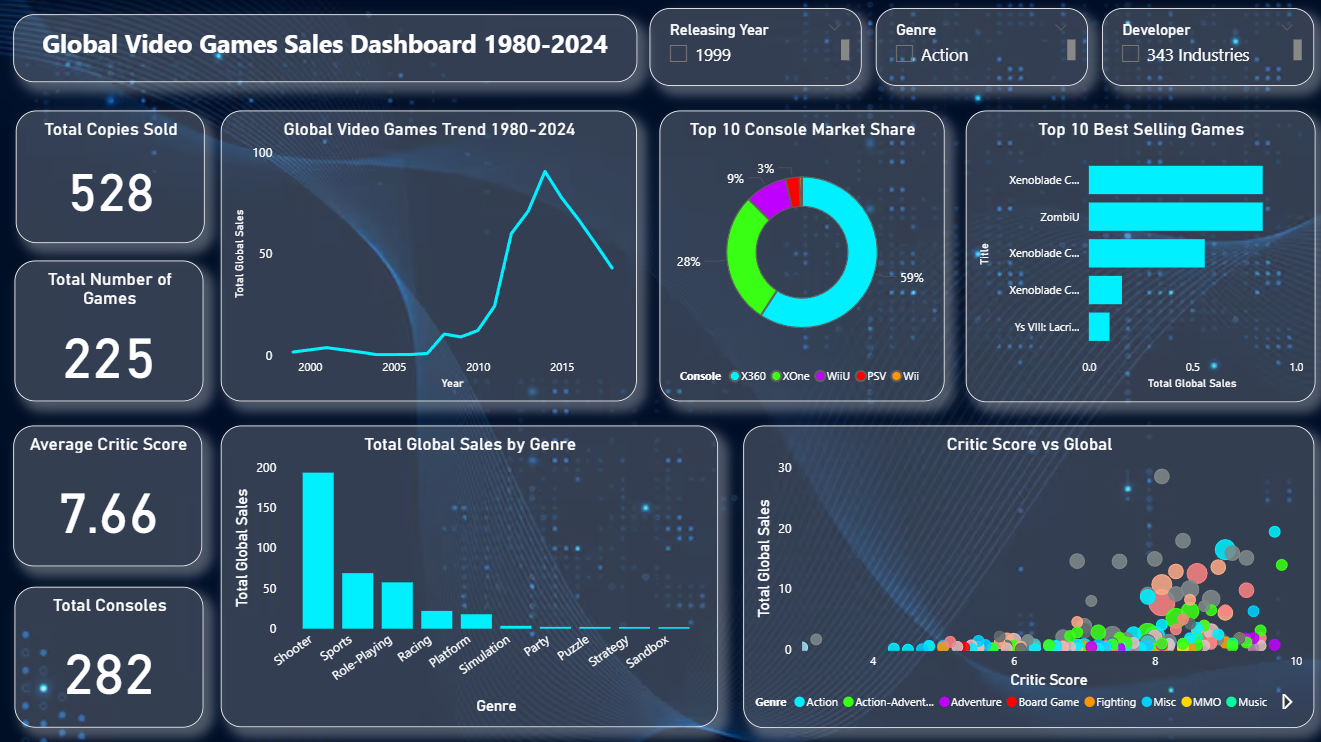

Layout of this report page (visuals, bound fields, positions):
{"tool":"powerbi","page":{"name":"Page 1","canvas":[1280,720],"ordinal":0},"visuals":[{"type":"lineChart","title":"Global Video Games Trend 1980-2024","fields":{"Category":["Video Games Sales (1980-2024) - Raw.release_date.Variation.Date Hierarchy.Year"],"Y":["Video Games Sales (1980-2024) - Raw.Total Global Sales"]},"box":[216,108.6,401.7,281.1],"z":0},{"type":"columnChart","title":"Total Global Sales by Genre","fields":{"Category":["Video Games Sales (1980-2024) - Raw.genre"],"Y":["Video Games Sales (1980-2024) - Raw.Total Global Sales"]},"box":[215.4,413,480.3,290.9],"z":1000},{"type":"donutChart","title":"Top 10 Console Market Share","fields":{"Category":["Video Games Sales (1980-2024) - Raw.console"],"Y":["Video Games Sales (1980-2024) - Raw.Total Global Sales"]},"box":[639.4,108.6,275.1,281.1],"z":2000},{"type":"scatterChart","title":"Critic Score vs Global","fields":{"Y":["Video Games Sales (1980-2024) - Raw.Total Global Sales"],"X":["Video Games Sales (1980-2024) - Raw.critic_score"],"Series":["Video Games Sales (1980-2024) - Raw.genre"],"Size":["Video Games Sales (1980-2024) - Raw.Number of Games"]},"box":[720.2,412.6,551.3,292],"z":3000},{"type":"card","title":"Total Copies Sold","fields":{"Values":["Video Games Sales (1980-2024) - Raw.Total Global Sales"]},"box":[17.8,108.4,182.5,127.6],"z":4000},{"type":"card","title":"Total Number of Games","fields":{"Values":["Video Games Sales (1980-2024) - Raw.Number of Games"]},"box":[16.5,253.9,182.5,135.8],"z":5000},{"type":"card","title":"Average Critic Score","fields":{"Values":["Avg(Video Games Sales (1980-2024) - Raw.critic_score)"]},"box":[15.1,413,182.5,135.8],"z":6000},{"type":"slicer","fields":{"Values":["Video Games Sales (1980-2024) - Raw.release_date.Variation.Date Hierarchy.Year"]},"box":[629.8,9.6,204.5,75.5],"z":7000},{"type":"slicer","fields":{"Values":["Video Games Sales (1980-2024) - Raw.genre"]},"box":[848,9.6,204.5,75.5],"z":8000},{"type":"slicer","fields":{"Values":["Video Games Sales (1980-2024) - Raw.developer"]},"box":[1066.2,9.6,204.5,75.5],"z":9000},{"type":"card","title":"Total Consoles","fields":{"Values":["CountNonNull(Video Games Sales (1980-2024) - Raw.console)"]},"box":[16.5,568.1,182.5,135.8],"z":10000},{"type":"textbox","box":[15.1,15.1,602.4,65.9],"z":11000},{"type":"clusteredBarChart","title":"Top 10 Best Selling Games","fields":{"Y":["Video Games Sales (1980-2024) - Raw.Total Global Sales"],"Category":["Video Games Sales (1980-2024) - Raw.title","Video Games Sales (1980-2024) - Raw.console"]},"box":[934.5,108.4,337.6,281.3],"z":12000}]}

Visuals, with their boxes in screenshot pixels (x1, y1, x2, y2), scaled from the page's 1280x720 canvas onto the 1321x742 screenshot:
"Global Video Games Trend 1980-2024" lineChart: 223,112,637,402
"Total Global Sales by Genre" columnChart: 222,426,718,725
"Top 10 Console Market Share" donutChart: 660,112,944,402
"Critic Score vs Global" scatterChart: 743,425,1312,726
"Total Copies Sold" card: 18,112,207,243
"Total Number of Games" card: 17,262,205,402
"Average Critic Score" card: 16,426,204,566
slicer - Video Games Sales (1980-2024) - Raw.release_date.Variation.Date Hierarchy.Year: 650,10,861,88
slicer - Video Games Sales (1980-2024) - Raw.genre: 875,10,1086,88
slicer - Video Games Sales (1980-2024) - Raw.developer: 1100,10,1311,88
"Total Consoles" card: 17,585,205,725
textbox: 16,16,637,83
"Top 10 Best Selling Games" clusteredBarChart: 964,112,1313,402
